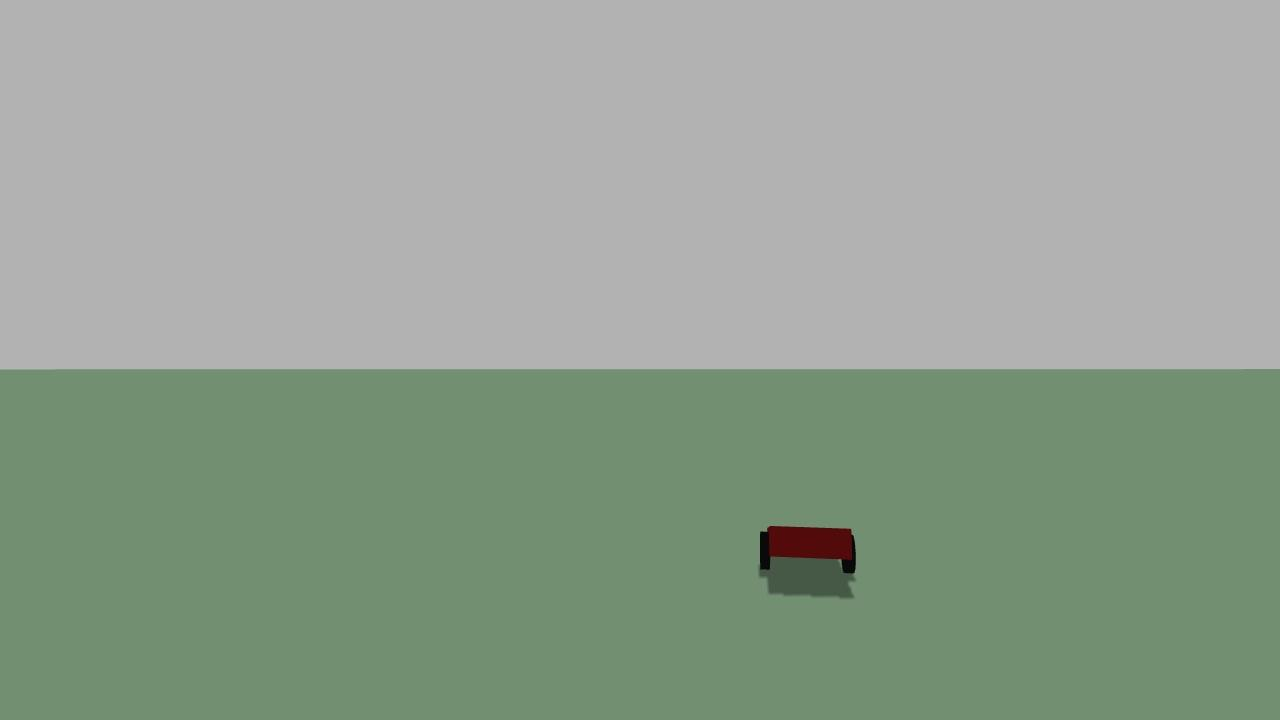ground_vehicle: (746, 515, 872, 586)
